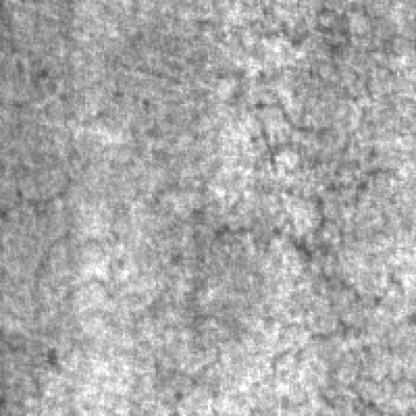crazing: (200, 0, 410, 308), (268, 312, 416, 412)
